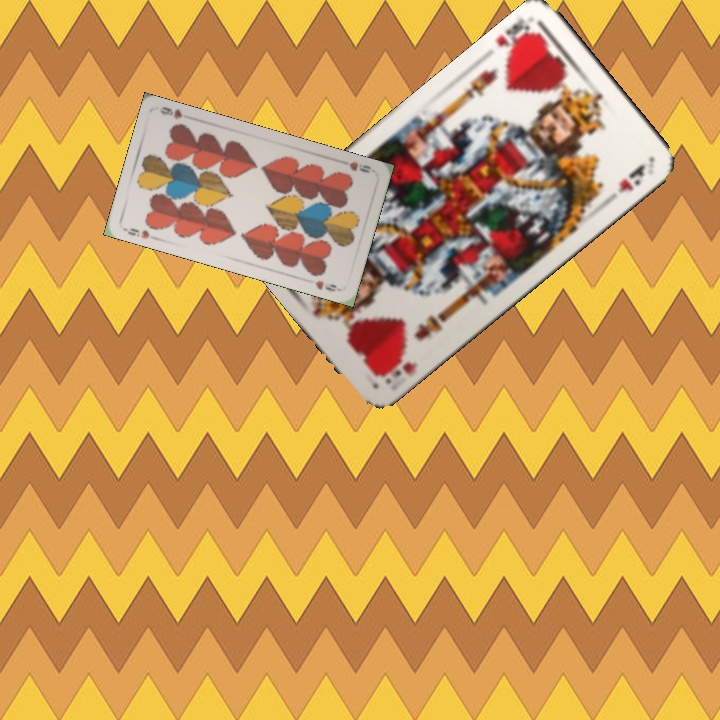H9: (336, 156, 373, 176), (124, 224, 152, 241)
HK: (491, 14, 540, 62), (374, 348, 421, 380)
